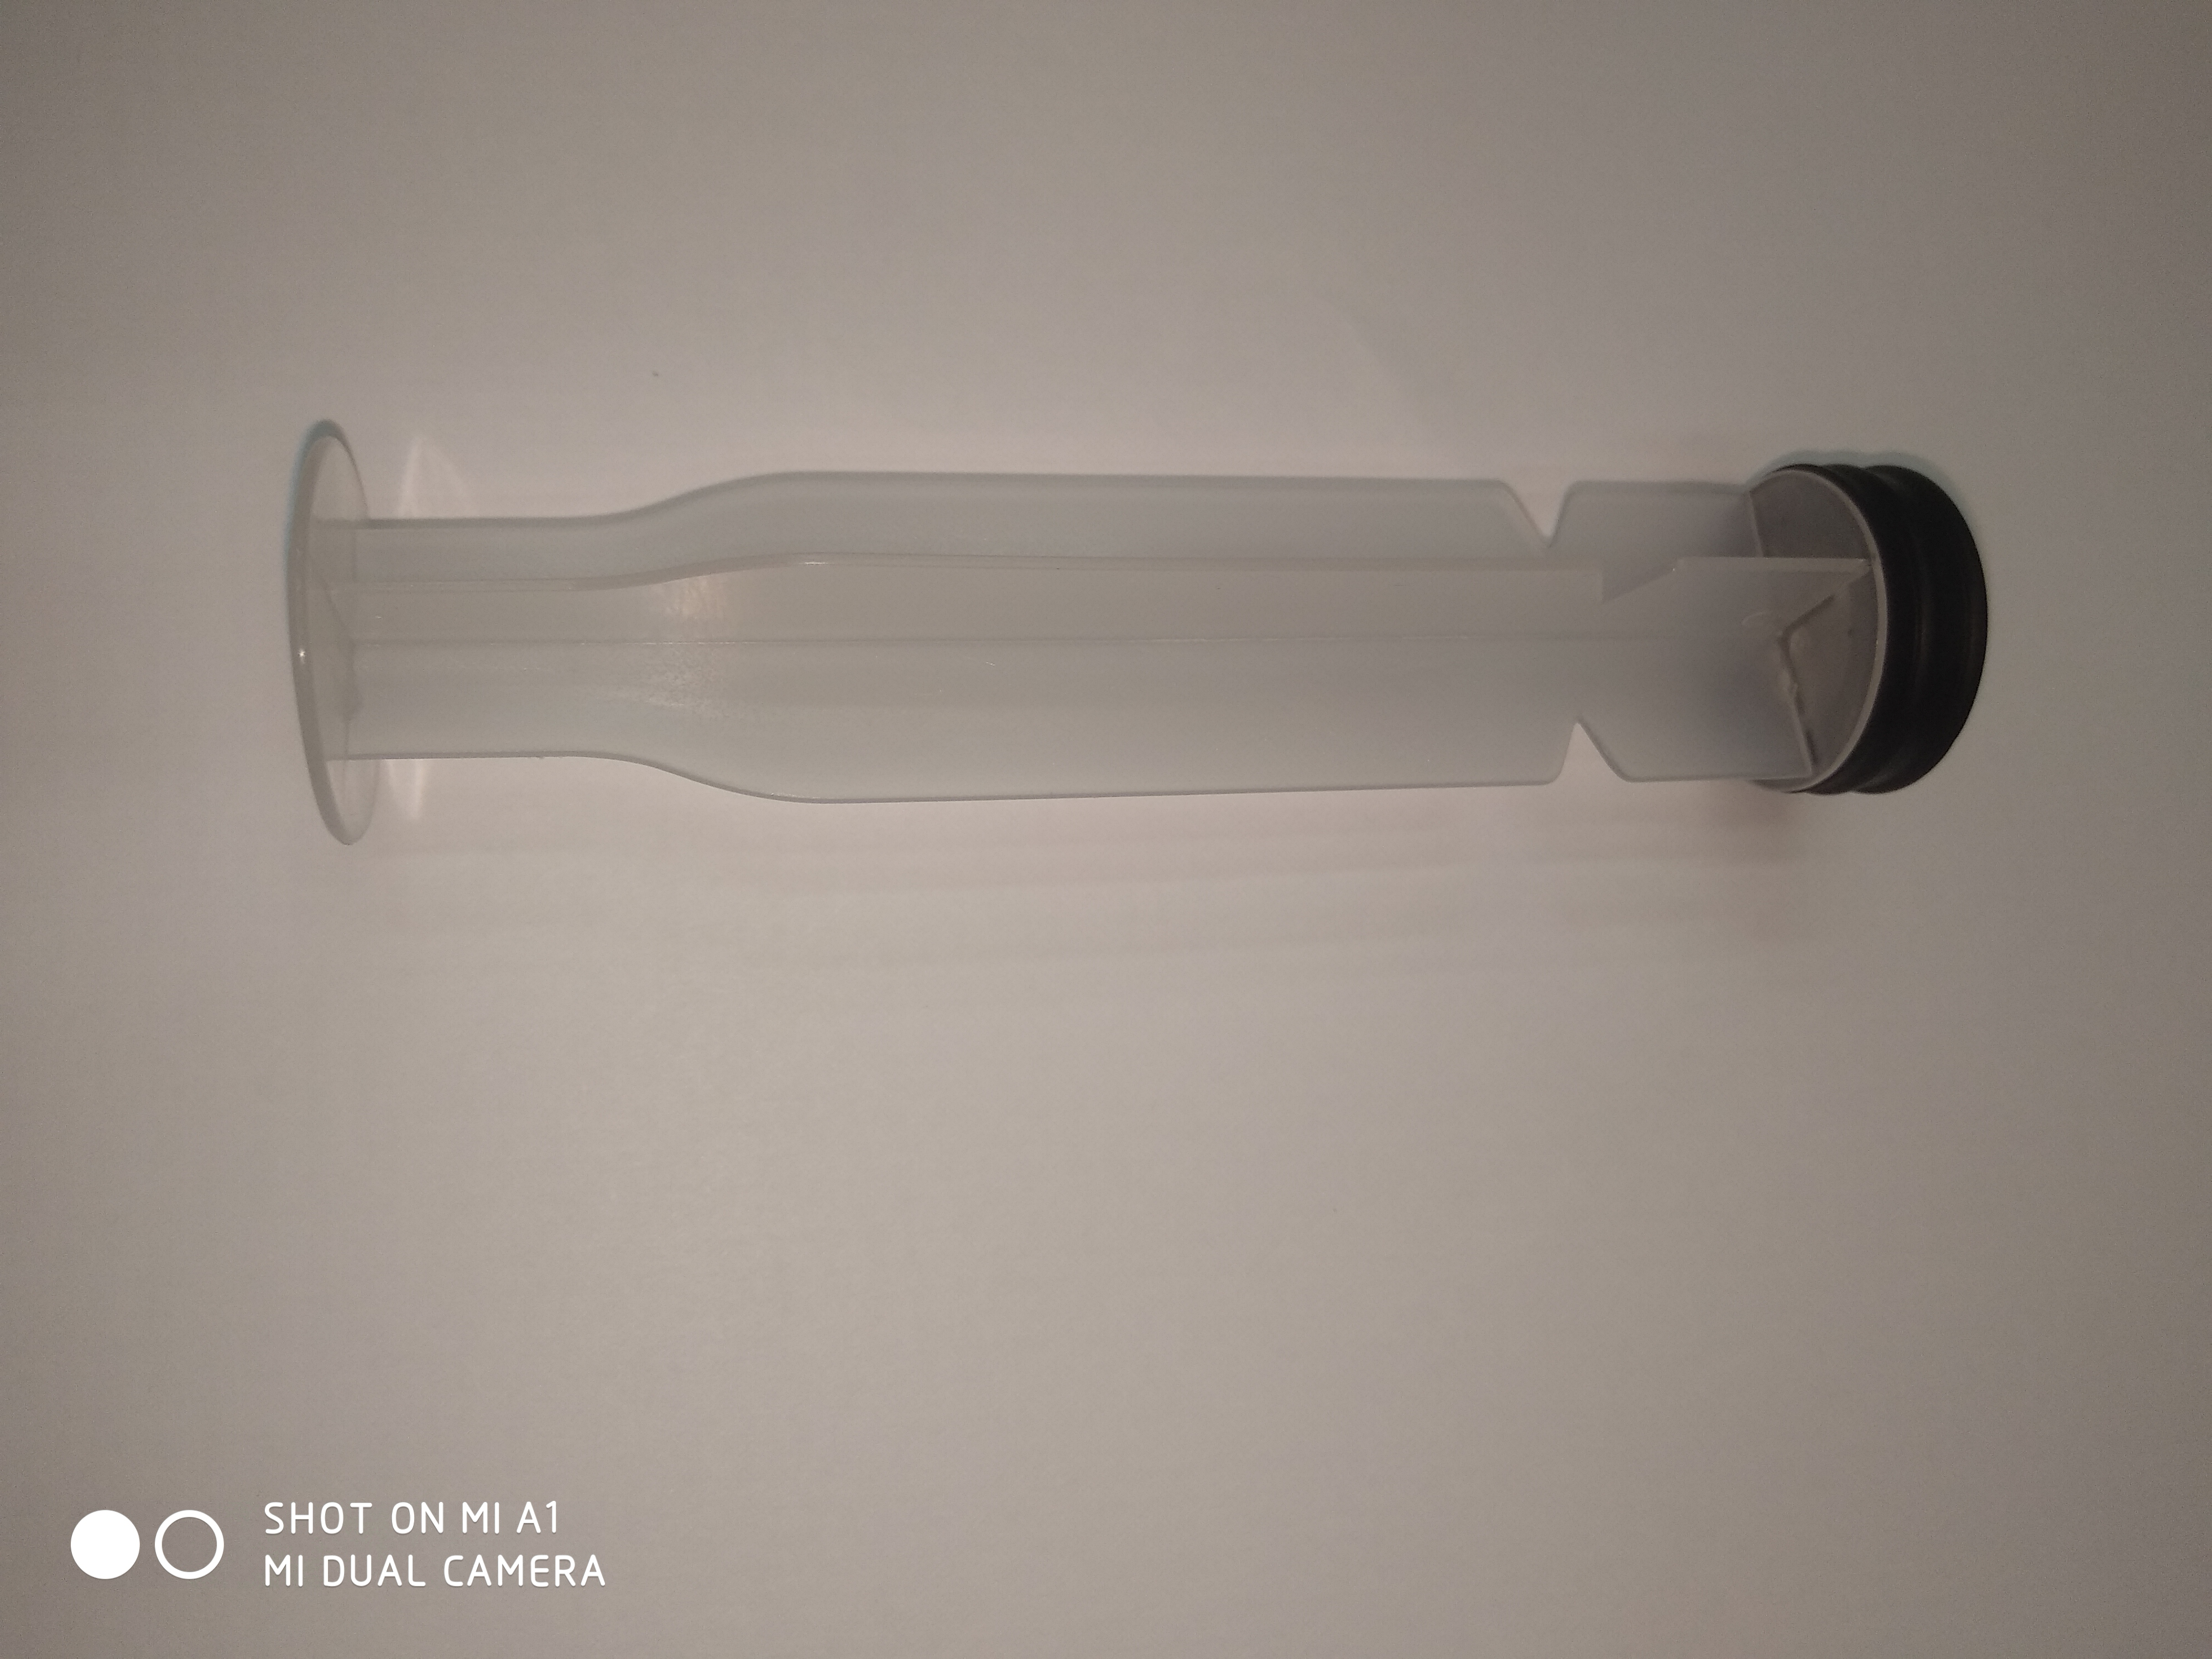plunger: (268, 410, 2017, 852)
